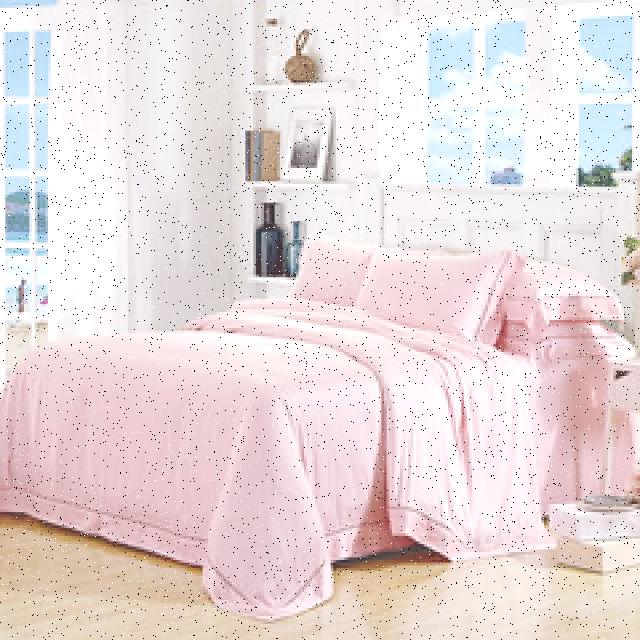bed: (12, 225, 621, 577)
